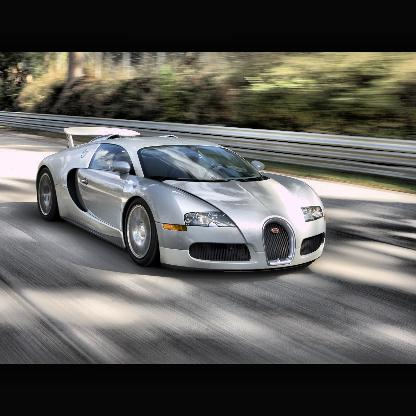Bugatti Veyron 16-4 Coupe 2009: (35, 125, 330, 276)
